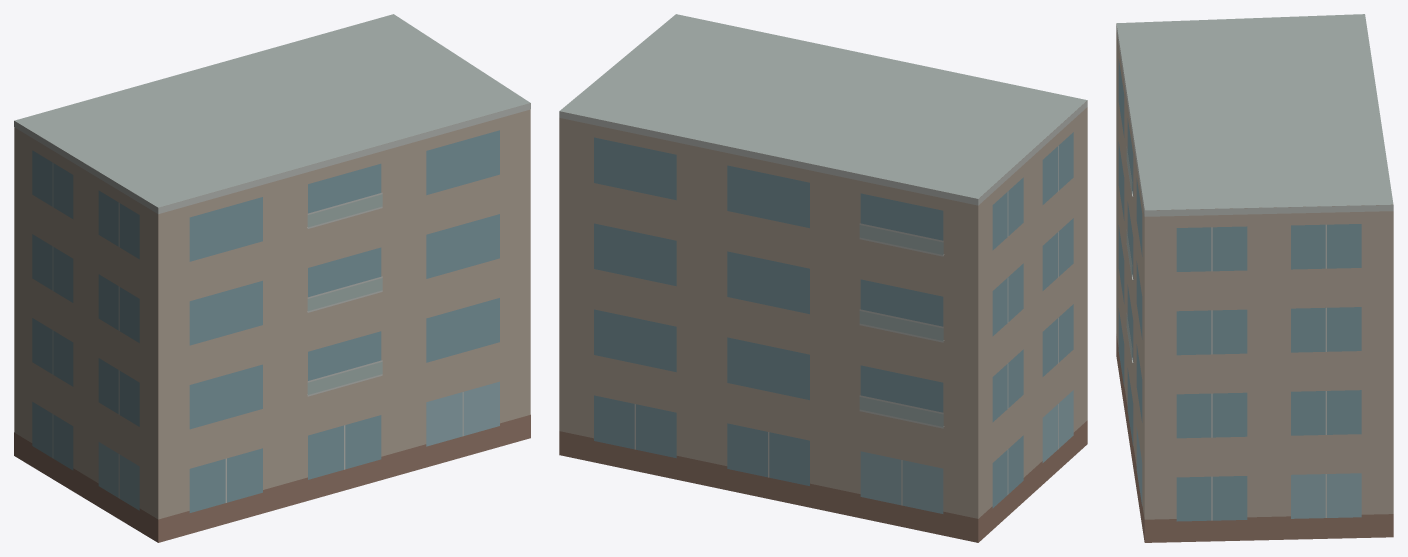
The model's file is survey-upis-32955865.glb.
3 views of the same model, side by side, from view 1: azimuth 30°, elevation 25°; view 2: azimuth 150°, elevation 25°; view 3: azimuth 270°, elevation 25° (orthographic). The views are drawn at different scales.
Visible parts, largest first — view 1: survey-upis-32955865.tmp; view 2: survey-upis-32955865.tmp; view 3: survey-upis-32955865.tmp.
Boxes of the visible parts, x1=… form: survey-upis-32955865.tmp: x1=14, y1=14, x2=530, y2=542; survey-upis-32955865.tmp: x1=559, y1=14, x2=1087, y2=542; survey-upis-32955865.tmp: x1=1116, y1=14, x2=1393, y2=542.
Size of the model in its own units: 15.97 by 12.6 by 9.53.
